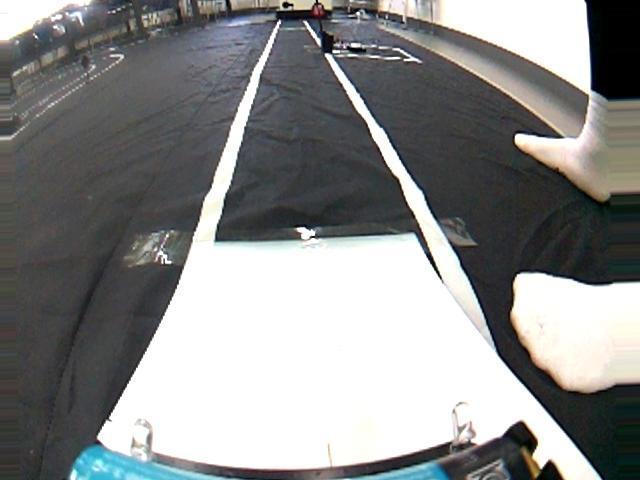hill_down: (5, 219, 632, 474)
